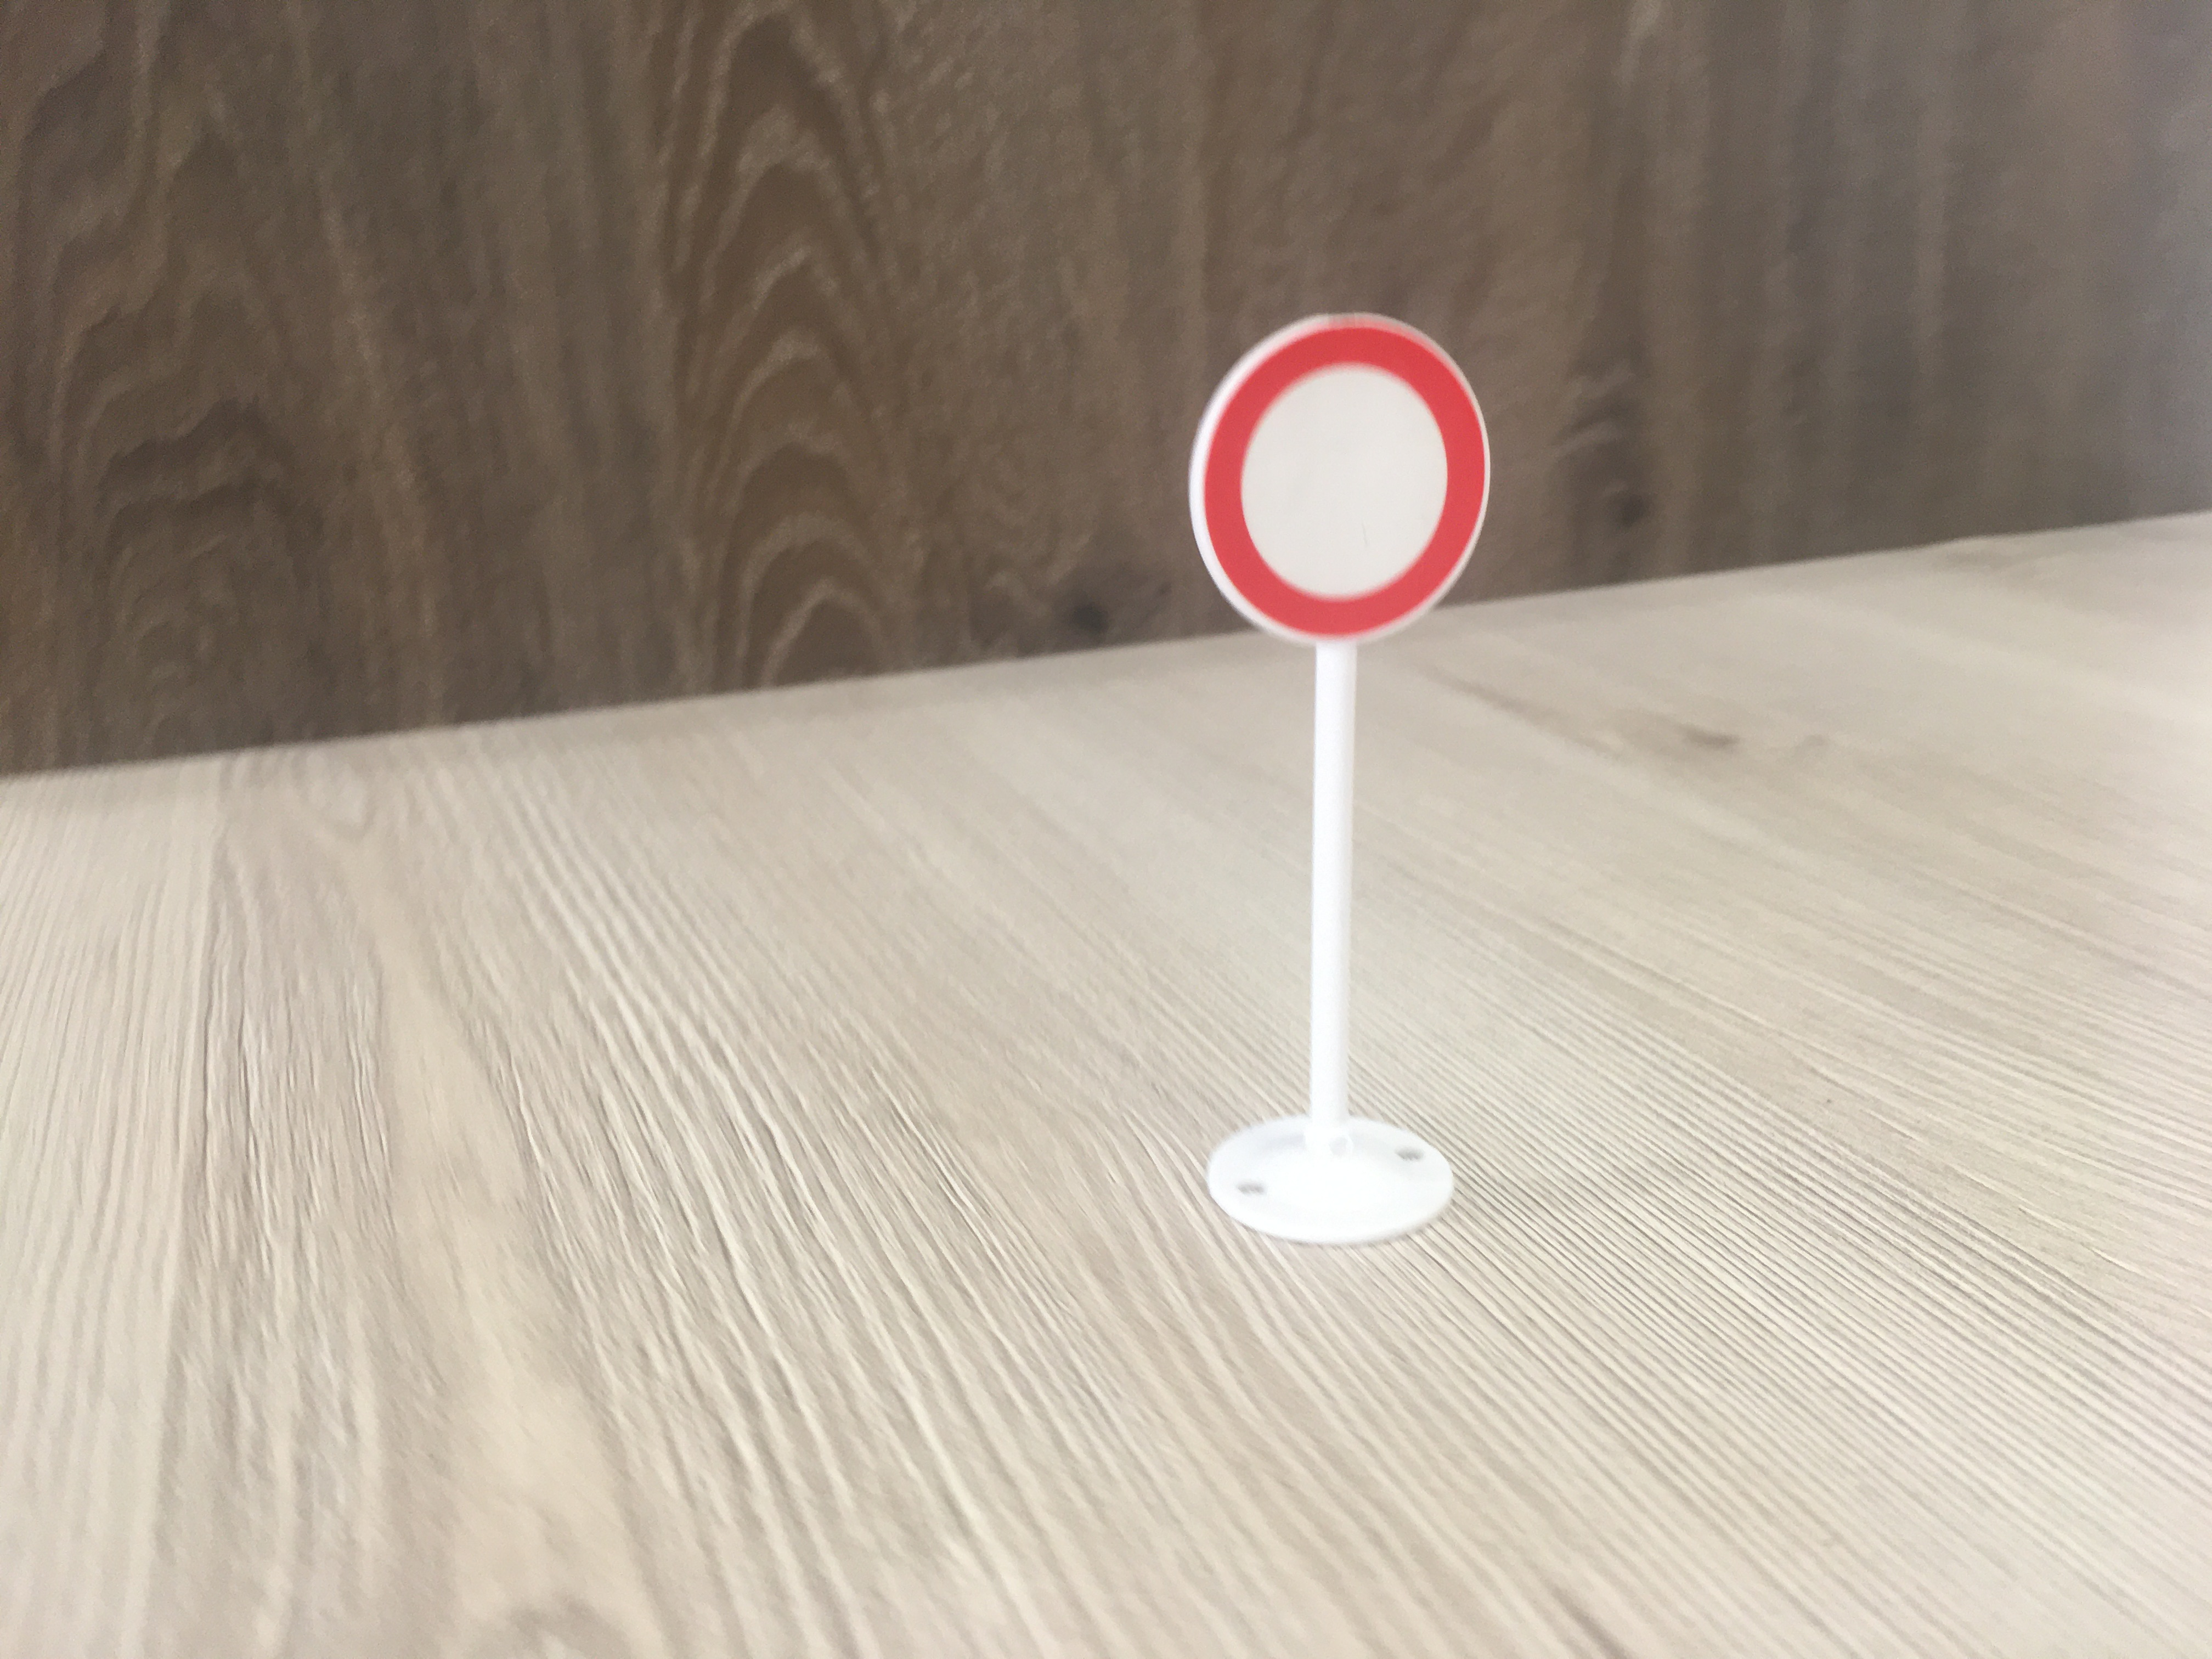noDrive: (1183, 319, 1491, 653)
